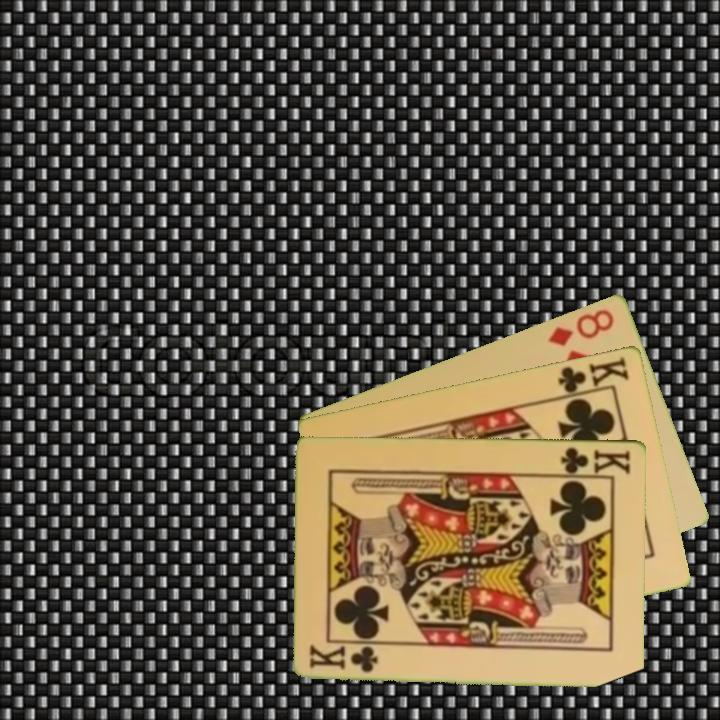8d: (545, 305, 617, 349)
Kc: (554, 353, 632, 400), (552, 444, 633, 477), (306, 645, 381, 675)
